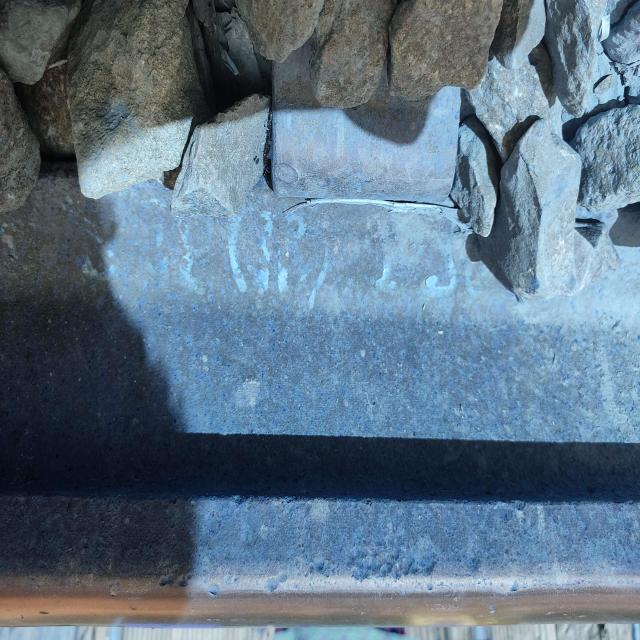Missing Fastener: (237, 41, 496, 270)
